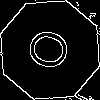O: (25, 25, 81, 77)
